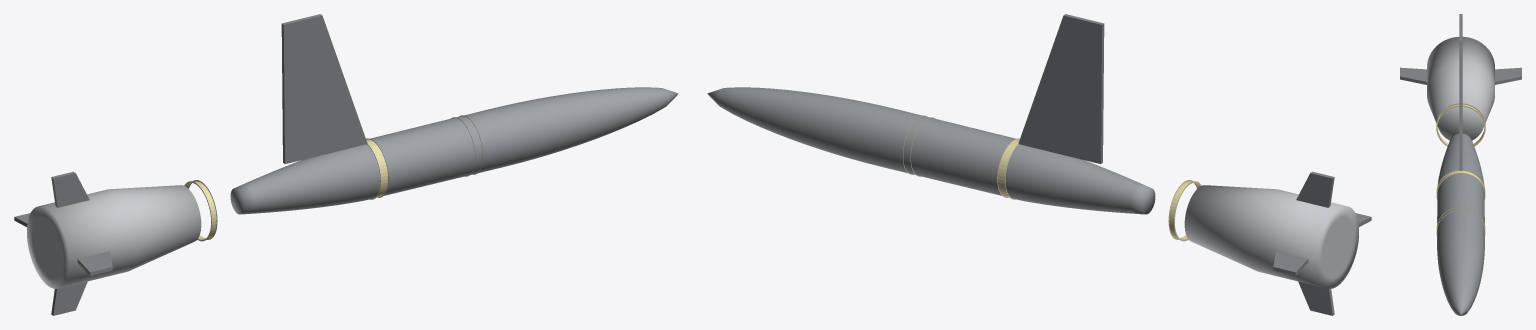
Rendered from FR_LAM_MdCN_LOD0.fbx.
The picture shows the model from 3 angles, left to right: view 1: azimuth 30°, elevation 25°; view 2: azimuth 150°, elevation 25°; view 3: azimuth 270°, elevation 25°; orthographic projection. The views are drawn at different scales.
Visible parts, largest first — view 1: WPN_FR_LAM_MdCN_LOD0_Body, WPN_FR_LAM_MdCN_LOD0_Tail, WPN_FR_LAM_MdCN_LOD0_Wings, WPN_FR_LAM_MdCN_LOD0_Fins, WPN_FR_LAM_MdCN_LOD0_Marking; view 2: WPN_FR_LAM_MdCN_LOD0_Body, WPN_FR_LAM_MdCN_LOD0_Tail, WPN_FR_LAM_MdCN_LOD0_Wings, WPN_FR_LAM_MdCN_LOD0_Fins, WPN_FR_LAM_MdCN_LOD0_Marking; view 3: WPN_FR_LAM_MdCN_LOD0_Body, WPN_FR_LAM_MdCN_LOD0_Tail, WPN_FR_LAM_MdCN_LOD0_Fins, WPN_FR_LAM_MdCN_LOD0_Marking, WPN_FR_LAM_MdCN_LOD0_Wings.
Boxes of the visible parts, x1,y1,x2,y2 form: WPN_FR_LAM_MdCN_LOD0_Body: (230,87,678,214); WPN_FR_LAM_MdCN_LOD0_Tail: (27,185,201,288); WPN_FR_LAM_MdCN_LOD0_Wings: (281,14,367,163); WPN_FR_LAM_MdCN_LOD0_Fins: (14,171,112,315); WPN_FR_LAM_MdCN_LOD0_Marking: (184,115,483,241); WPN_FR_LAM_MdCN_LOD0_Body: (707,87,1155,214); WPN_FR_LAM_MdCN_LOD0_Tail: (1184,185,1358,288); WPN_FR_LAM_MdCN_LOD0_Wings: (1018,14,1104,163); WPN_FR_LAM_MdCN_LOD0_Fins: (1273,171,1371,315); WPN_FR_LAM_MdCN_LOD0_Marking: (902,115,1201,241); WPN_FR_LAM_MdCN_LOD0_Body: (1437,132,1484,315); WPN_FR_LAM_MdCN_LOD0_Tail: (1427,36,1494,140); WPN_FR_LAM_MdCN_LOD0_Fins: (1400,14,1521,84); WPN_FR_LAM_MdCN_LOD0_Marking: (1436,103,1485,235); WPN_FR_LAM_MdCN_LOD0_Wings: (1459,26,1462,170).
Bounding box in the file's own units: 6.5 × 1.35 × 2.31.
